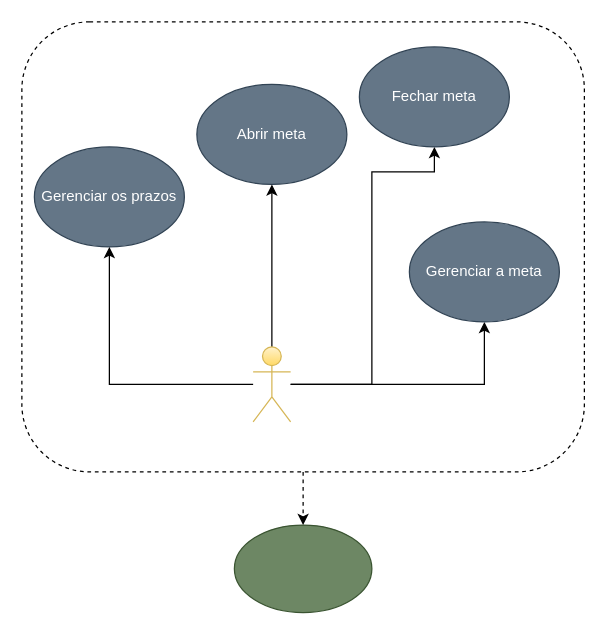
Image size: 606x635. Some labels were removed from this diagram. Here are the shapes that lost their labels. From the top down, the centre of each, then its label:
At point (271, 384): "USER".
At point (302, 568): "Sub-meta".
